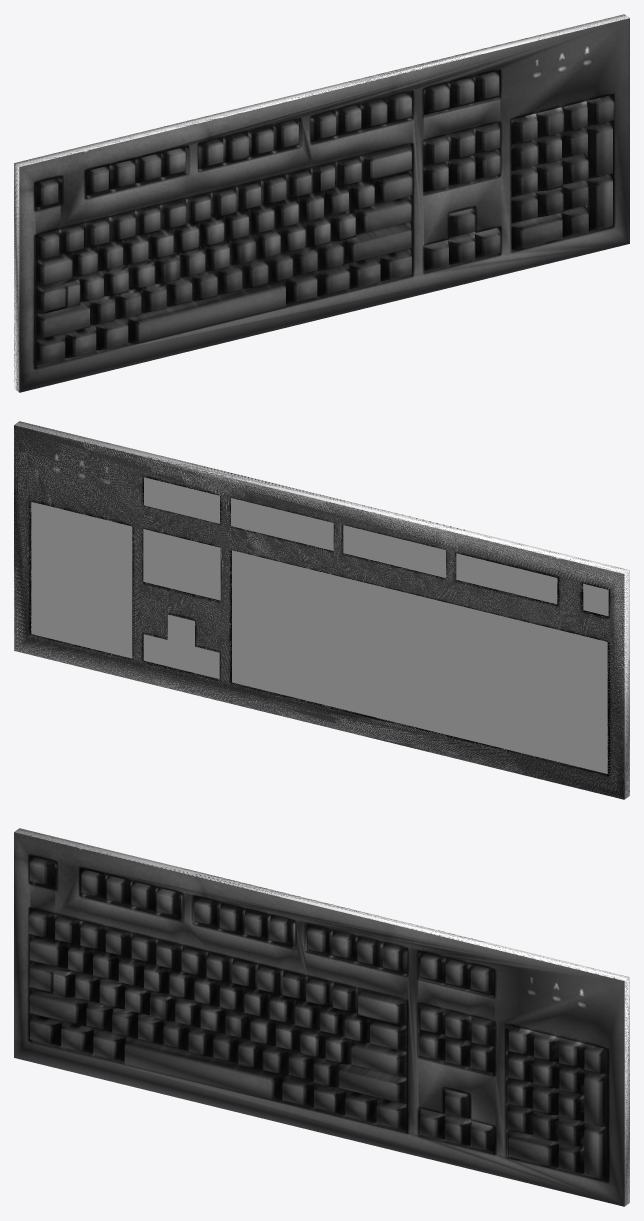
3 views of the same model, one above another, from view 1: azimuth 30°, elevation 25°; view 2: azimuth 150°, elevation 25°; view 3: azimuth 330°, elevation 25° (orthographic).
Size of the model in its own units: 0.4462 by 0.1576 by 0.0138.
